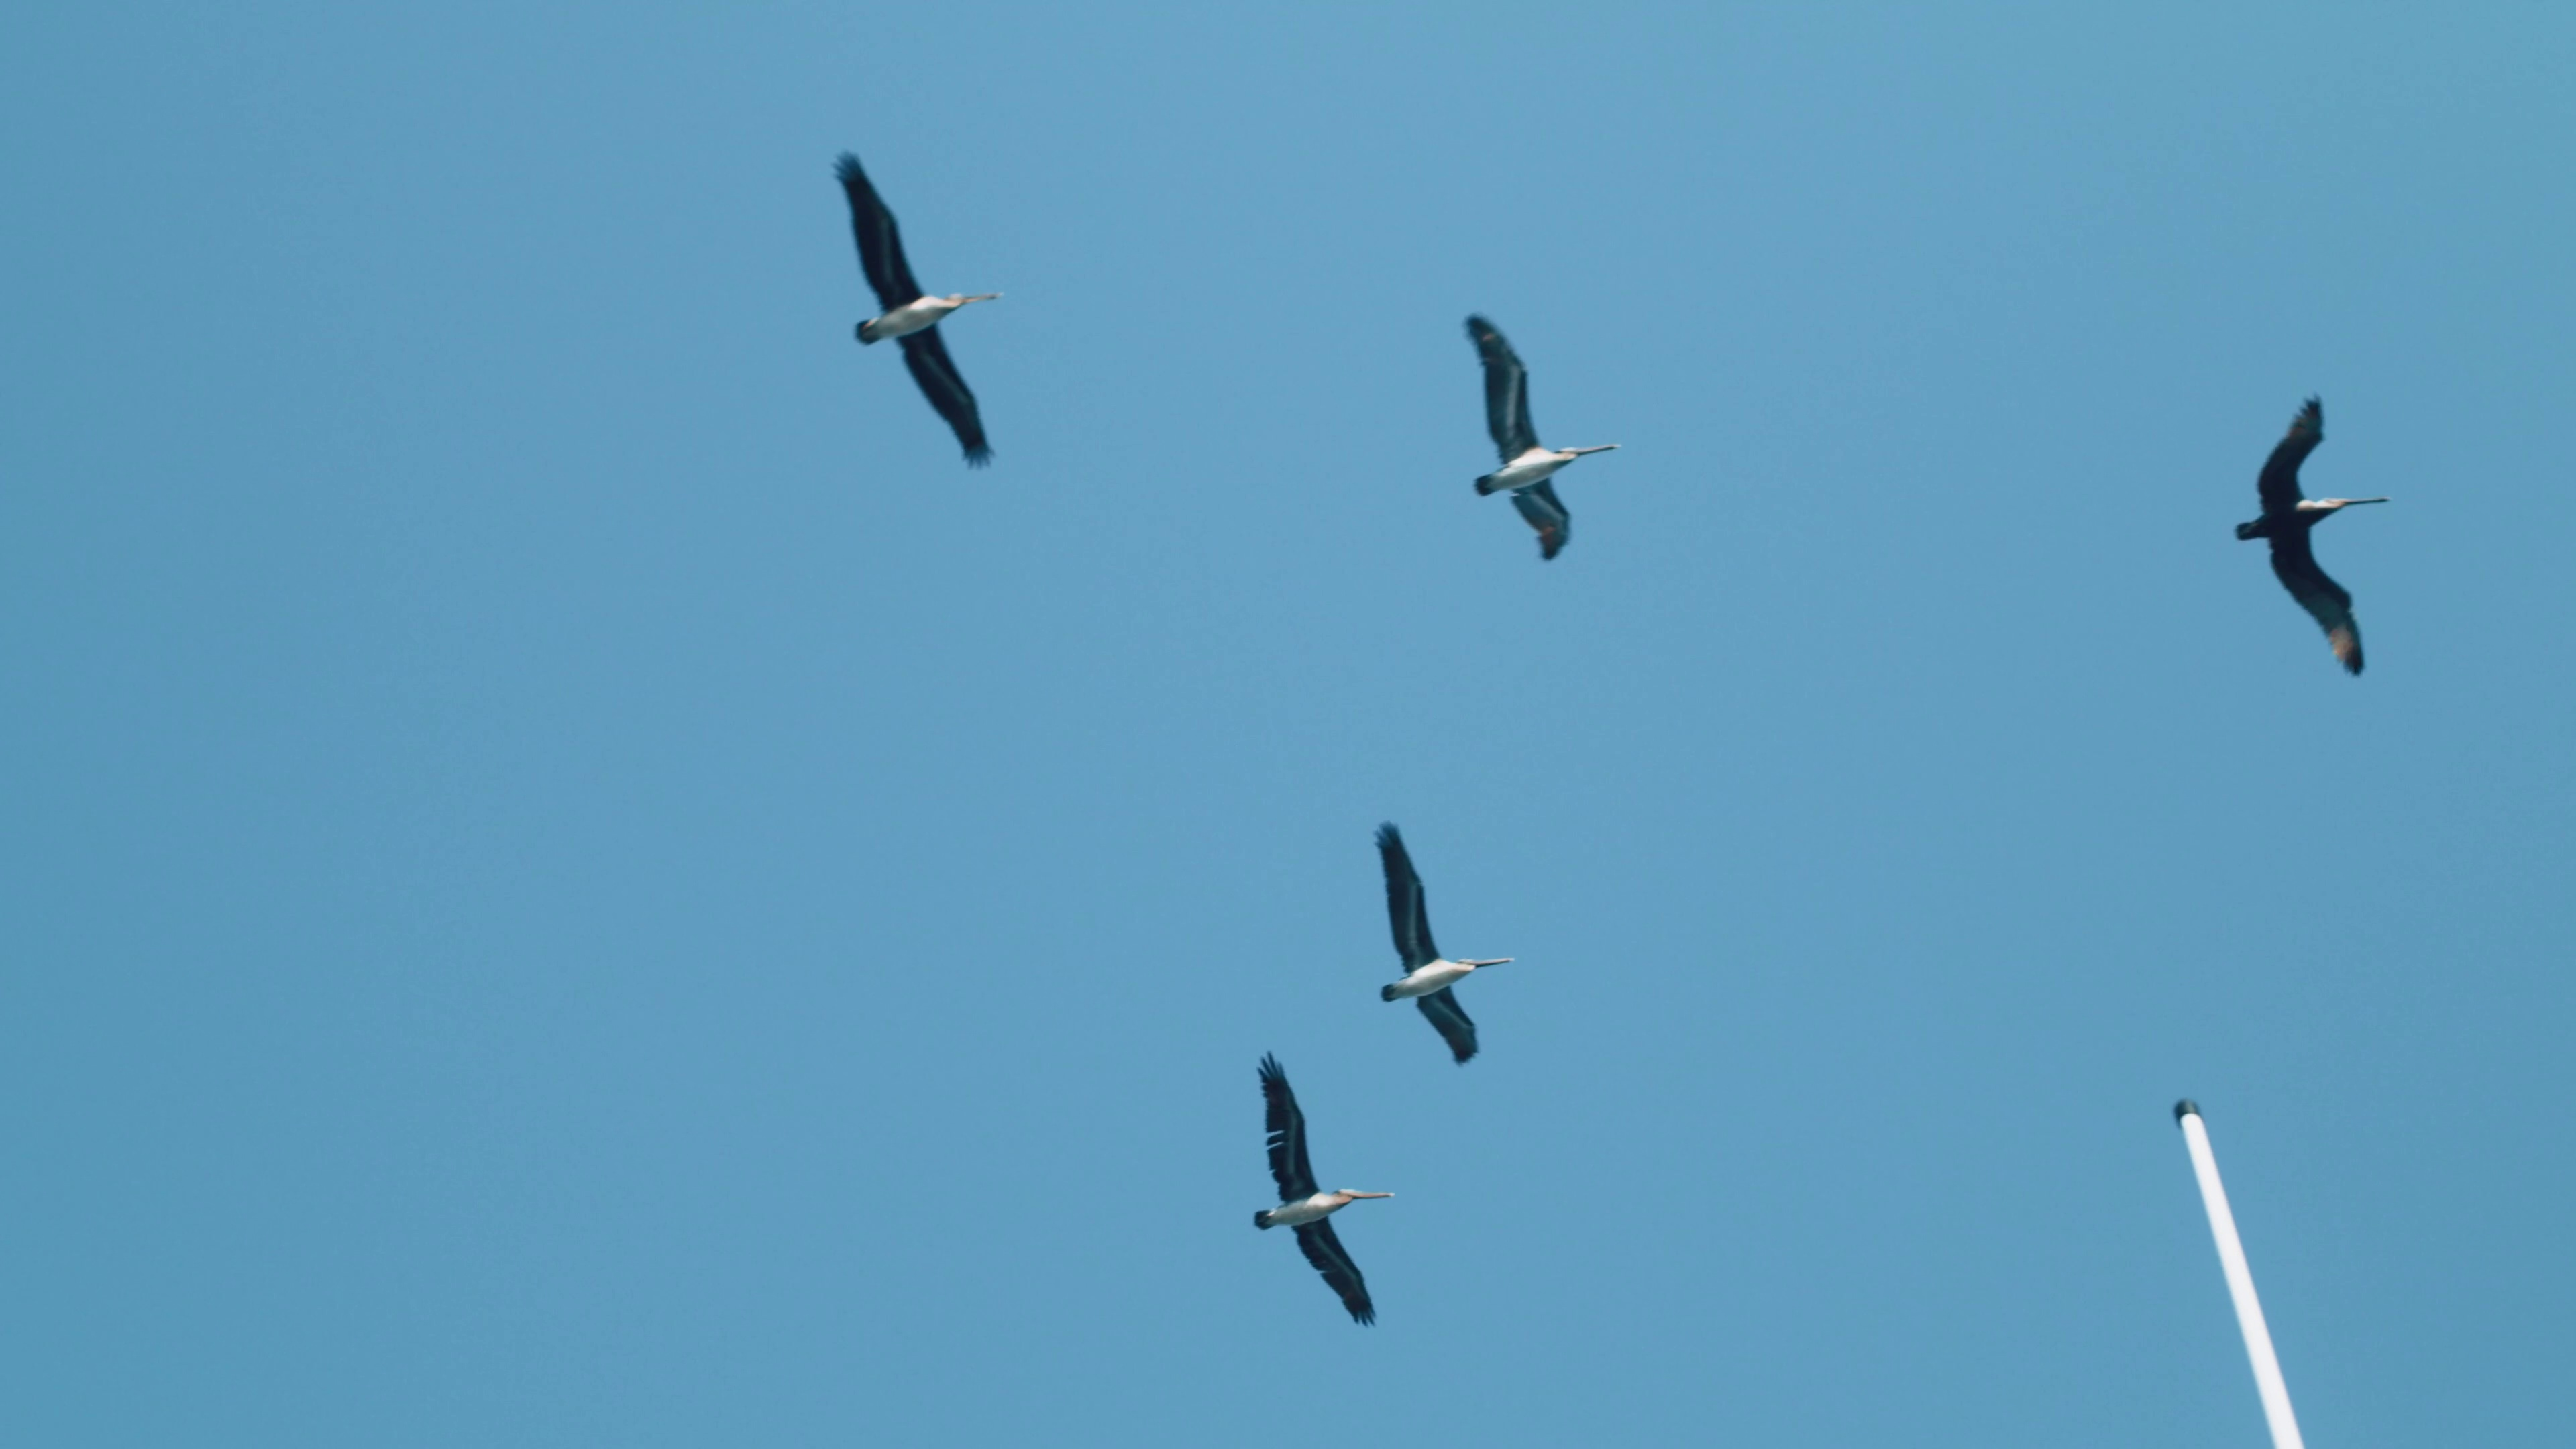bird: (832, 149, 1007, 469), (2231, 393, 2399, 674), (1467, 306, 1624, 568), (1362, 814, 1516, 1063), (1254, 1054, 1391, 1325)
